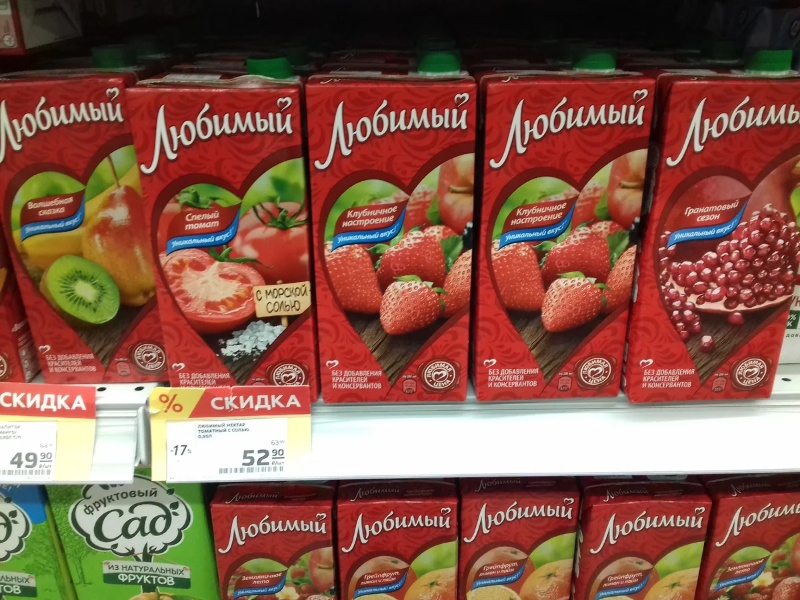juice: (125, 68, 344, 416), (291, 61, 493, 419), (612, 52, 800, 422), (472, 55, 650, 411), (1, 79, 172, 389), (47, 483, 213, 599), (583, 484, 712, 600), (455, 489, 585, 598), (209, 489, 336, 600), (335, 494, 455, 600), (716, 477, 800, 595)
